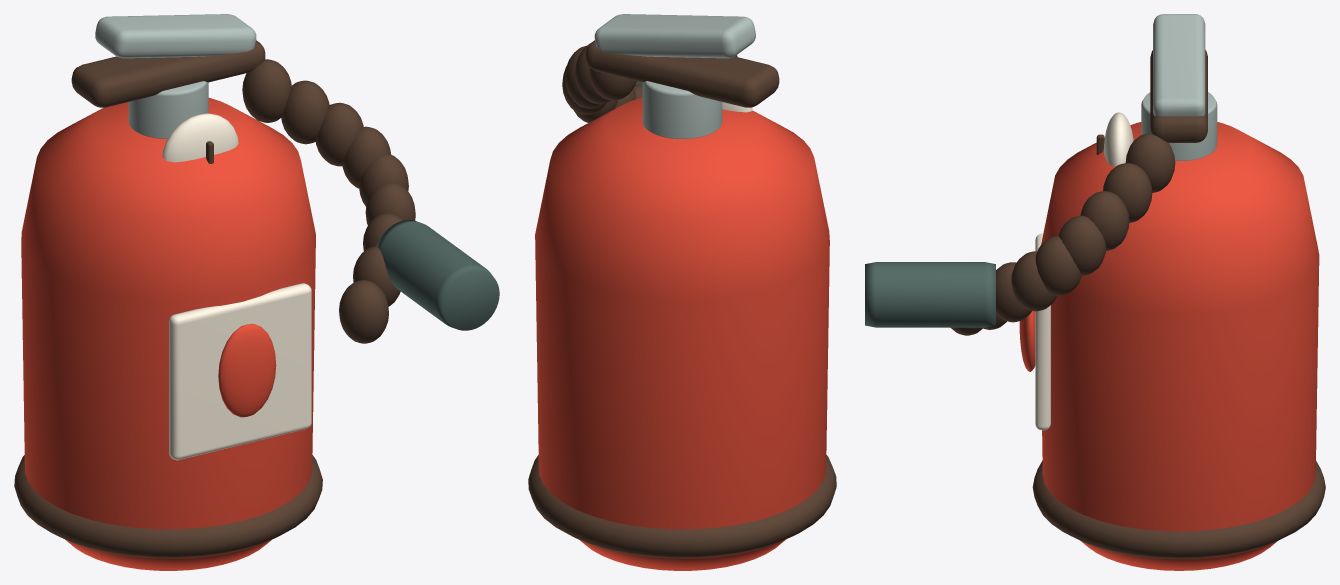
File: fire-extinguisher.obj
3 renders of one model, left to right at view 1: azimuth 30°, elevation 25°; view 2: azimuth 150°, elevation 25°; view 3: azimuth 270°, elevation 25°, orthographic. The views are drawn at different scales.
Parts seen in each view (by area): view 1: fire-extinguisher_tomato, fire-extinguisher_cocoa, fire-extinguisher_cream, fire-extinguisher_metal, fire-extinguisher_darkMetal; view 2: fire-extinguisher_tomato, fire-extinguisher_cocoa, fire-extinguisher_metal; view 3: fire-extinguisher_tomato, fire-extinguisher_cocoa, fire-extinguisher_darkMetal, fire-extinguisher_metal, fire-extinguisher_cream.
Part boxes in pixels (x1,y1,x2,y2): fire-extinguisher_tomato: (21,97,315,570); fire-extinguisher_cocoa: (14,40,415,558); fire-extinguisher_cream: (162,113,311,460); fire-extinguisher_metal: (95,14,256,138); fire-extinguisher_darkMetal: (376,220,499,330); fire-extinguisher_tomato: (535,97,829,570); fire-extinguisher_cocoa: (528,40,836,558); fire-extinguisher_metal: (594,14,755,138); fire-extinguisher_tomato: (1019,122,1319,570); fire-extinguisher_cocoa: (950,50,1325,558); fire-extinguisher_darkMetal: (865,262,995,327); fire-extinguisher_metal: (1141,14,1217,160); fire-extinguisher_cream: (1035,112,1133,430).
Bounding box in the file's own units: 0.257 × 0.4116 × 0.352.
